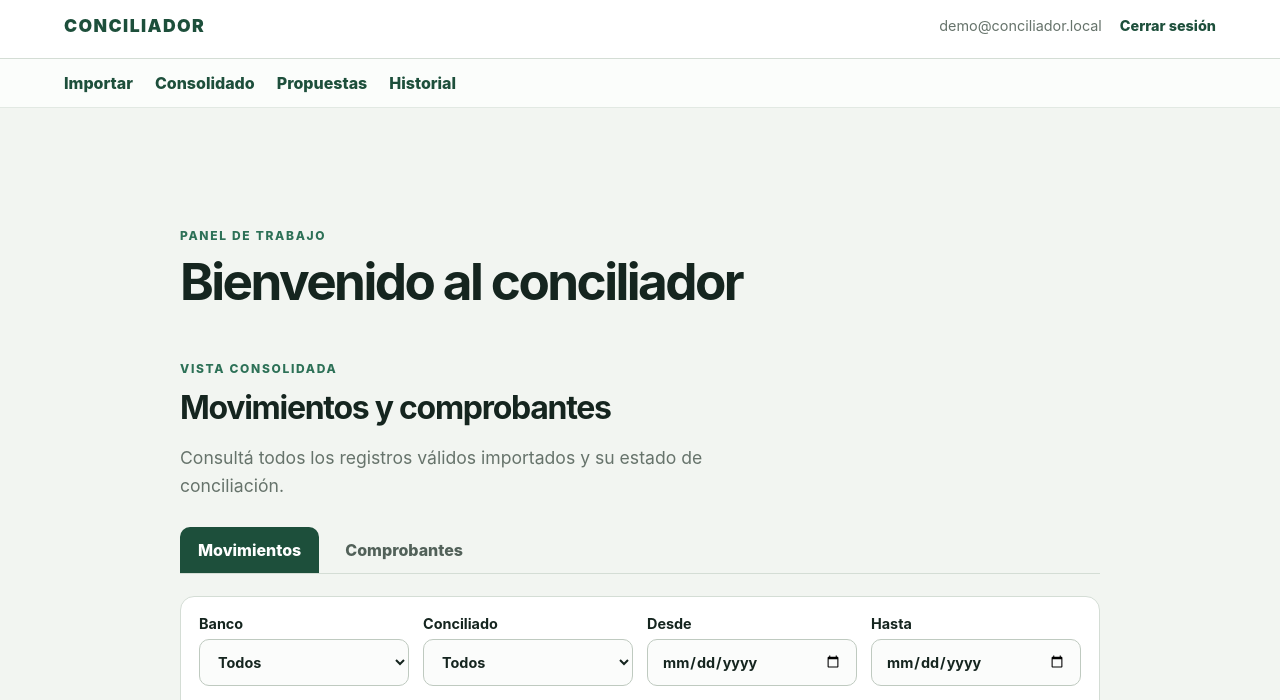
it: consolidated movements and receipts › renders both tabs and consolidated record columns
Expected: the heading "Movimientos y comprobantes" is shown, [180,388,611,427]
Click the tab "Comprobantes": coordinates (404, 550) [327,527,481,573]
(page scrolled)
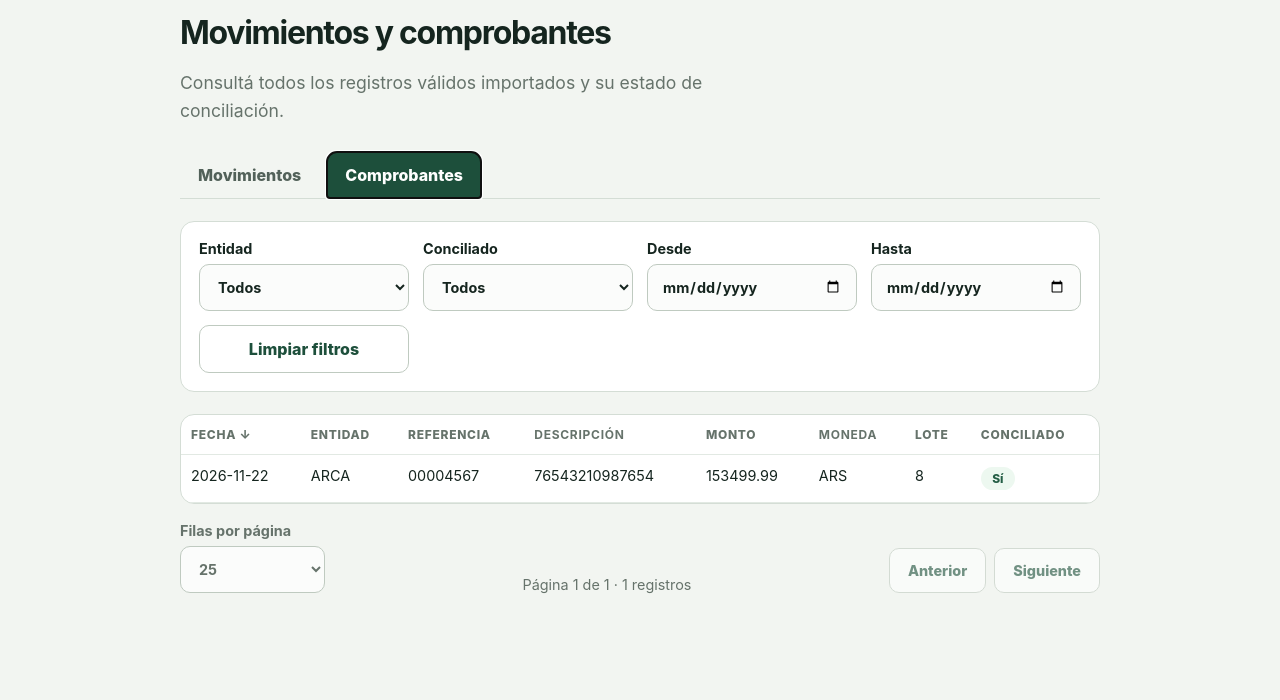
Expected: the dropdown labelled "Entidad" is shown, [199,264,409,311]
Expected: the text "00004567" is shown, [398,455,524,502]
Expected: the text "153499.99" is shown, [696,455,809,502]
